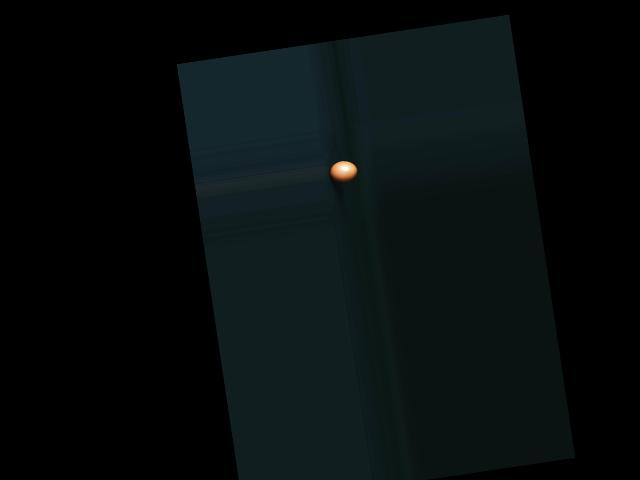egg: (328, 159, 358, 184)
